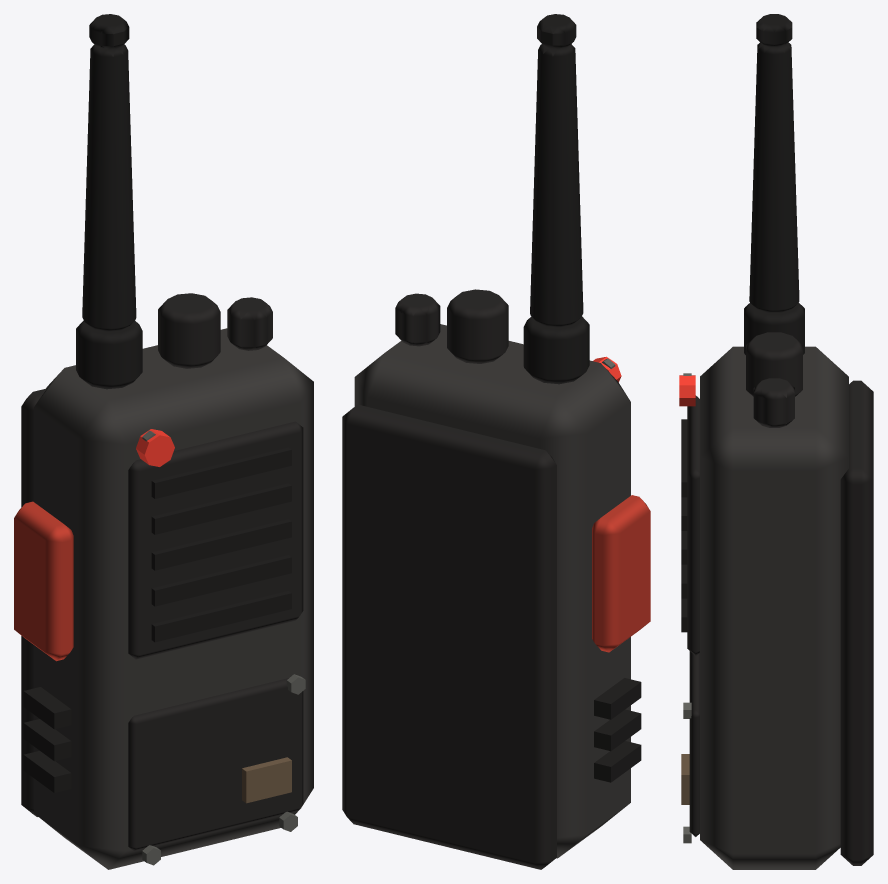
File: SupplyWalkie.glb
The picture shows the model from 3 angles, left to right: view 1: azimuth 30°, elevation 25°; view 2: azimuth 150°, elevation 25°; view 3: azimuth 270°, elevation 25°; orthographic projection. The views are drawn at different scales.
Parts seen in each view (by area): view 1: SupplyWalkie.001; view 2: SupplyWalkie.001; view 3: SupplyWalkie.001.
Part boxes in pixels (x1,y1,x2,y2): SupplyWalkie.001: [14, 14, 313, 869]; SupplyWalkie.001: [342, 14, 650, 869]; SupplyWalkie.001: [679, 14, 873, 869].
Bounding box in the file's own units: 0.069 × 0.208 × 0.047.
